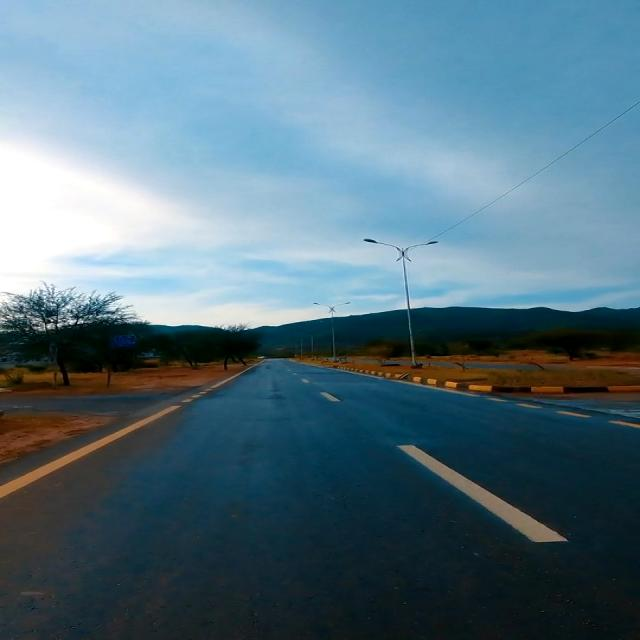lane: (0, 405, 180, 497), (398, 445, 565, 541)
road: (2, 360, 638, 639)
